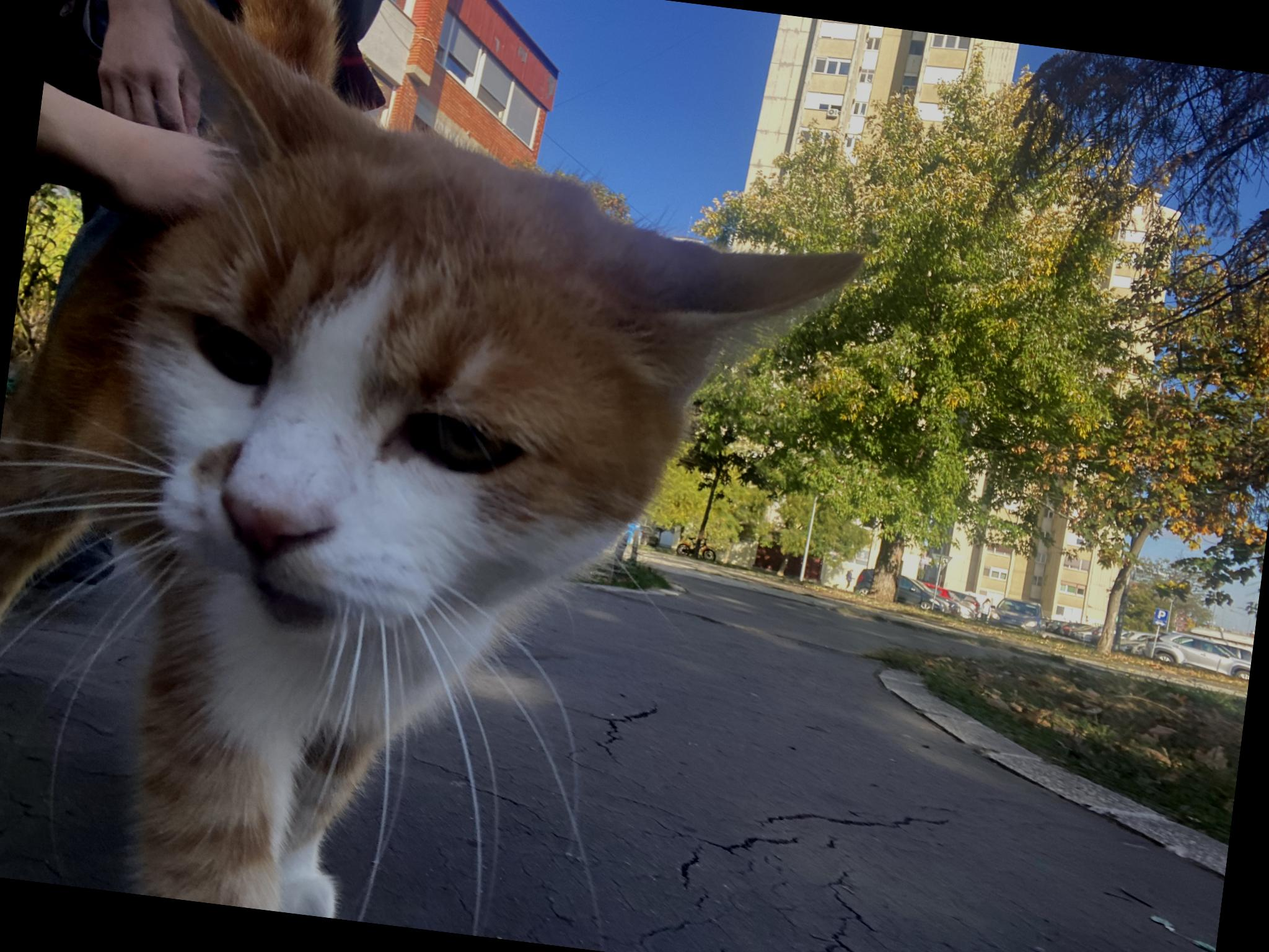macka: (0, 0, 898, 952)
